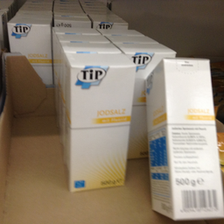spices: (144, 57, 224, 222), (64, 52, 136, 195), (7, 17, 53, 84)
